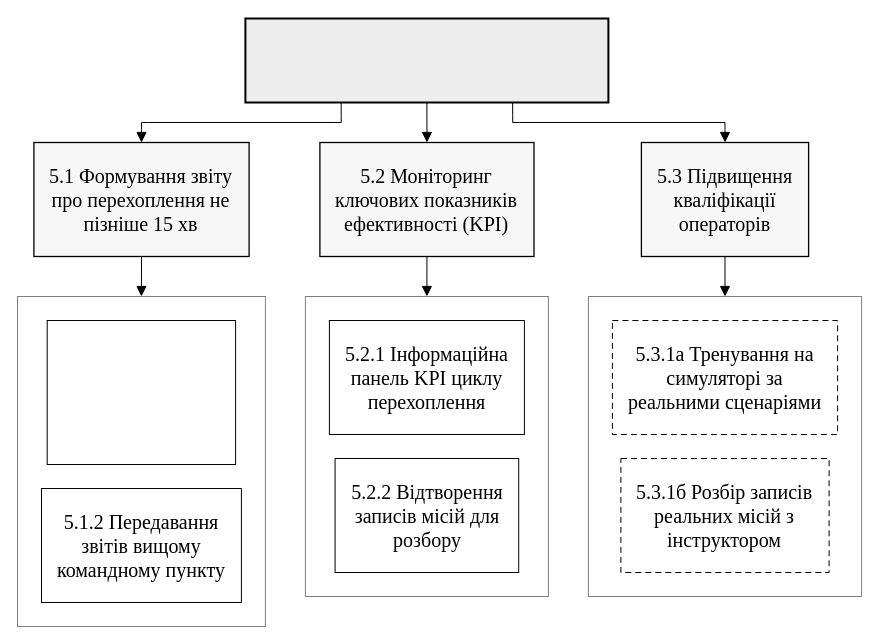
The diagram is 880 pixels wide and 644 high, and some of its shapes have lost their labels. Here are the shapes that lost their labels. From the top down, the centre of each, then its label:
the point at 426,60: 5. Аналітика, звітність і безперервне вдосконалення діяльності
the point at 141,392: 5.1.1 Автоматичне збирання доказів: відео та дані сенсорів
